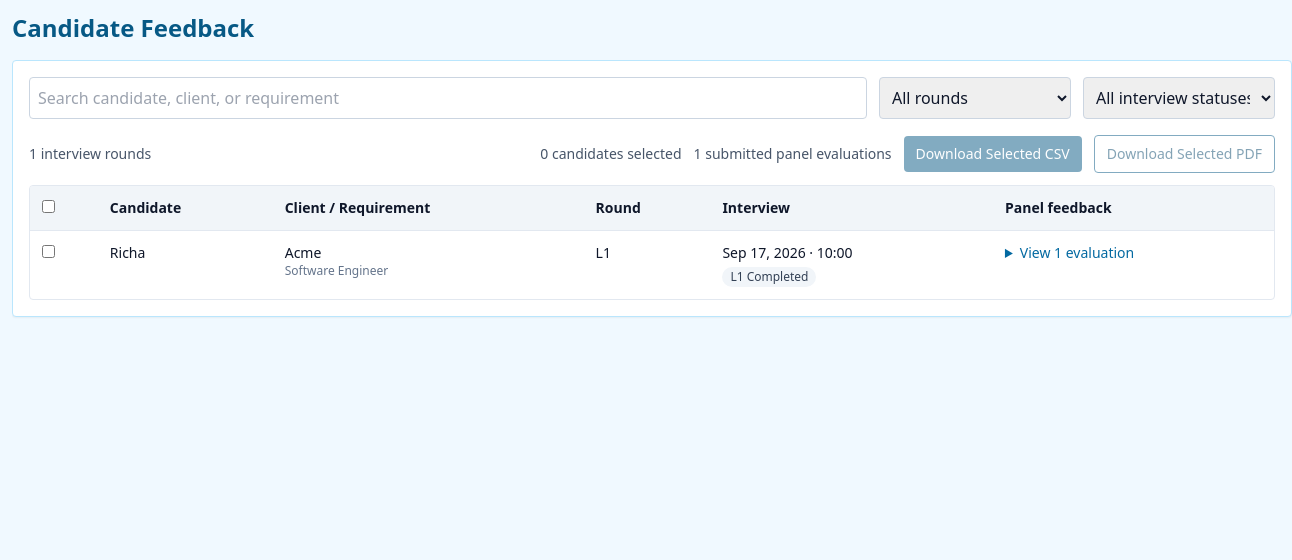
Test: FeedbackOverviewPage › allows TA users to select a candidate and download their feedback
Expected: the text "Richa" is shown, [98,230,273,299]
Click the checkbox named "Select feedback for Richa" at (48, 252), box [42,245,55,258]
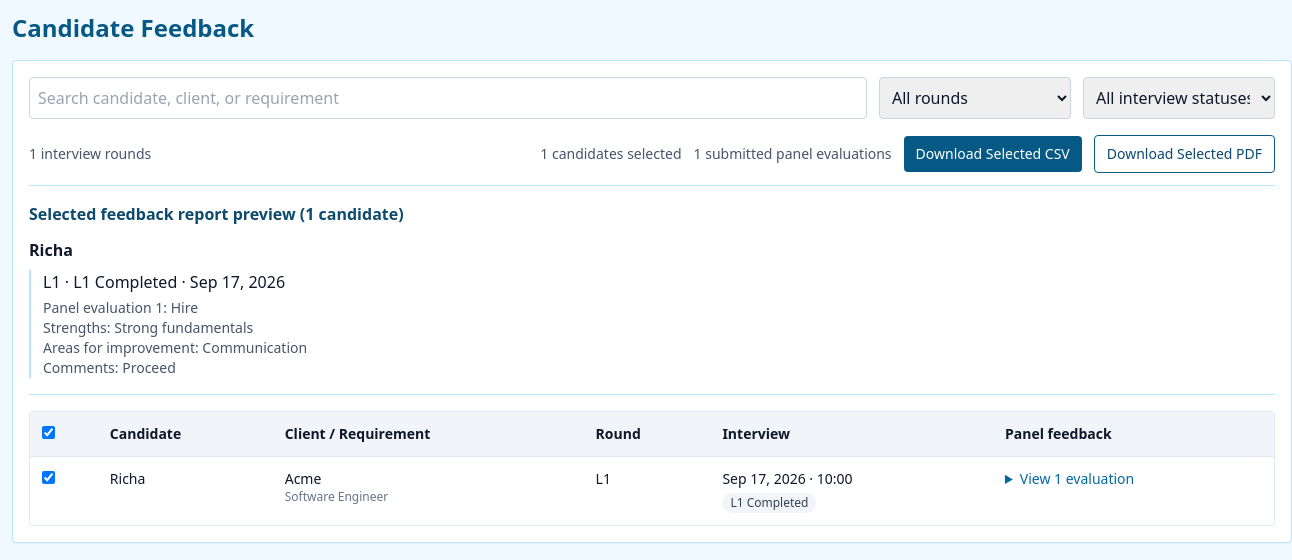
Expected: the button "Download Selected CSV" is enabled, [904,136,1082,172]
Expected: the button "Download Selected PDF" is enabled, [1094,135,1275,173]
Expected: the text "Panel evaluation 1: Hire" is shown 2 times
